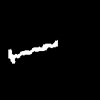half_double_crochet: (9, 41, 57, 62)
